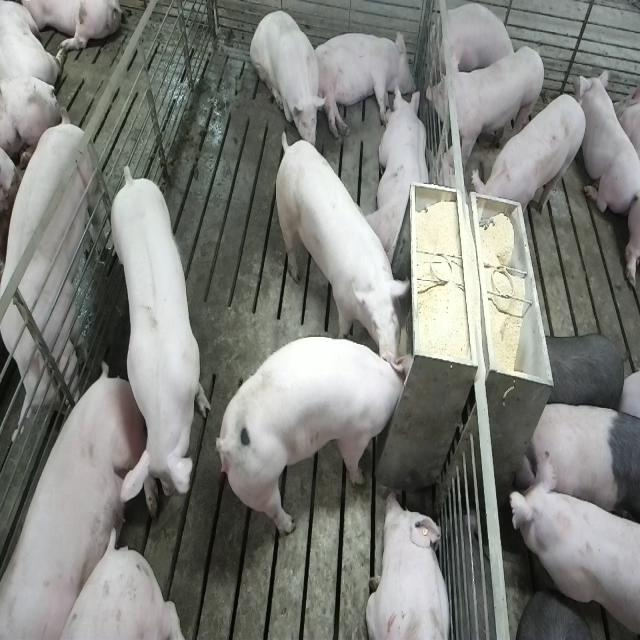Feeding: (216, 337, 408, 545), (273, 129, 409, 375)
Lateral_lying: (4, 361, 160, 636), (310, 27, 417, 139)
Sitting: (250, 8, 328, 152)
Standing: (107, 158, 208, 522), (0, 106, 106, 430), (506, 453, 638, 640), (473, 92, 588, 237), (520, 401, 638, 530)
Sternal_lying: (365, 490, 453, 640), (369, 82, 432, 263), (578, 70, 638, 222)
